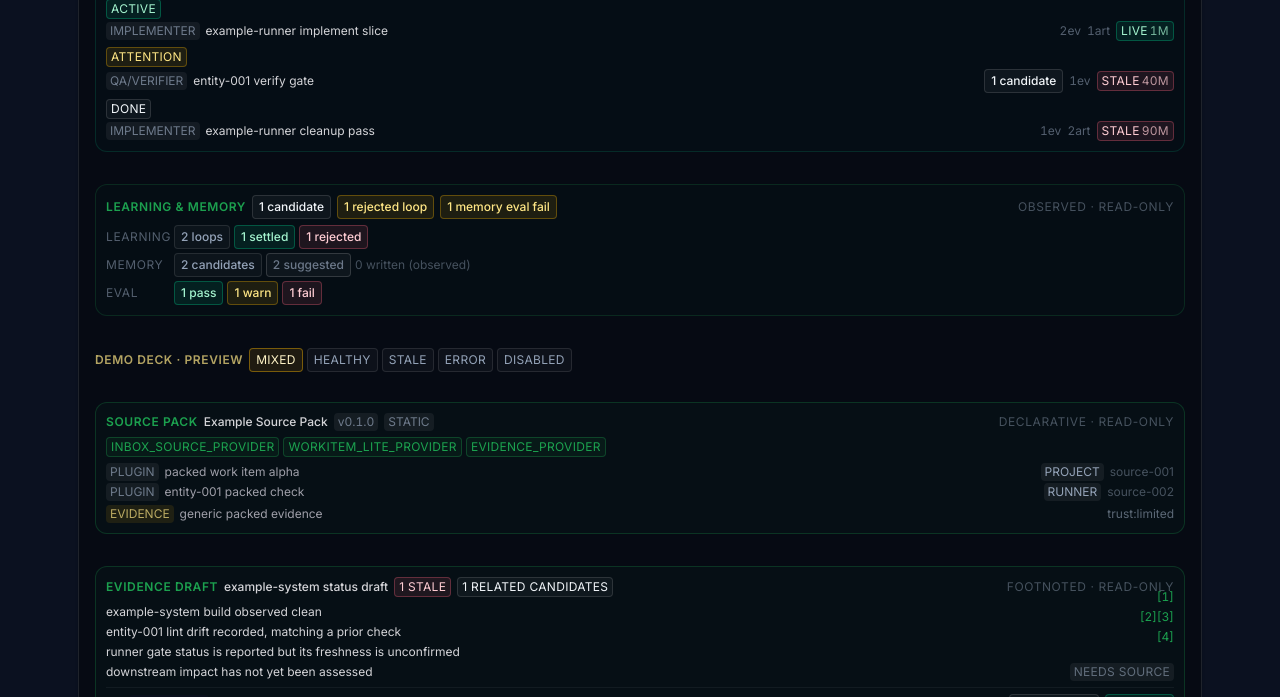
Scenario: Batch 15 LINE C — PREVIEW demo deck › selecting 'healthy' shows two connected sources with rows
(page scrolled)
Click the radio button labelled "healthy" at coordinates (342, 360), box [307, 348, 378, 372]
(page scrolled)
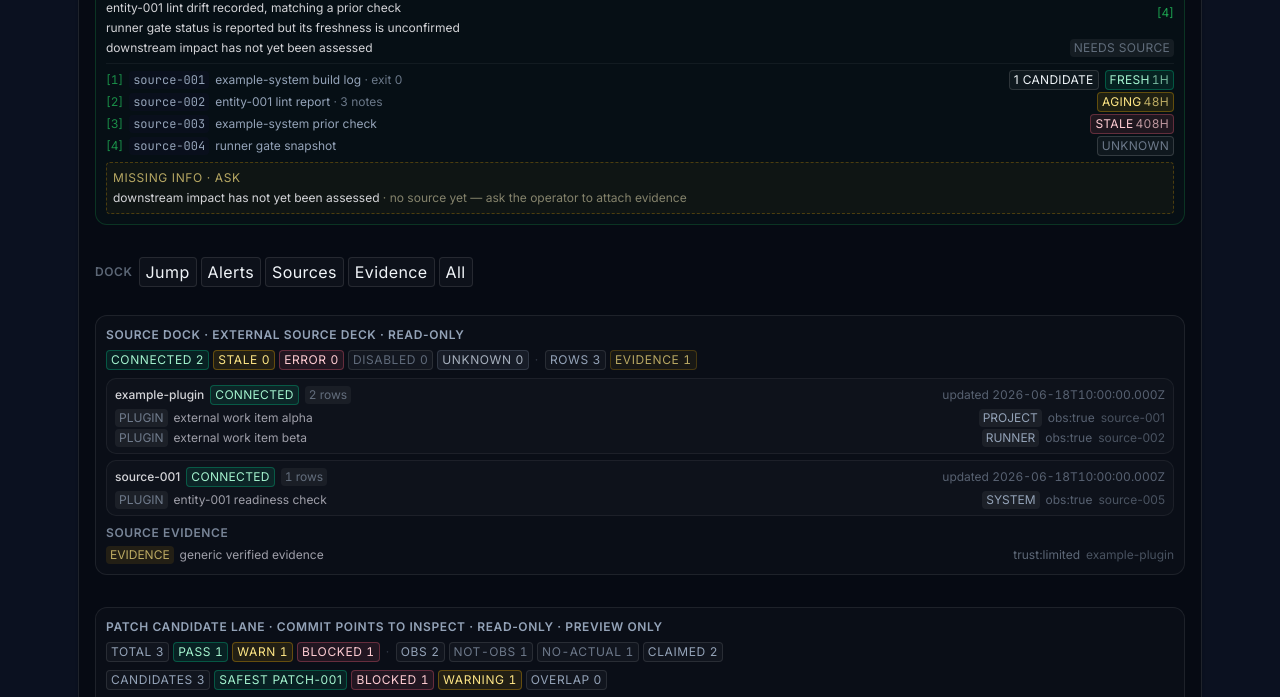
Expected: the text with test id "source-health-count-connected" has attribute data-count="2", [106, 350, 209, 370]
